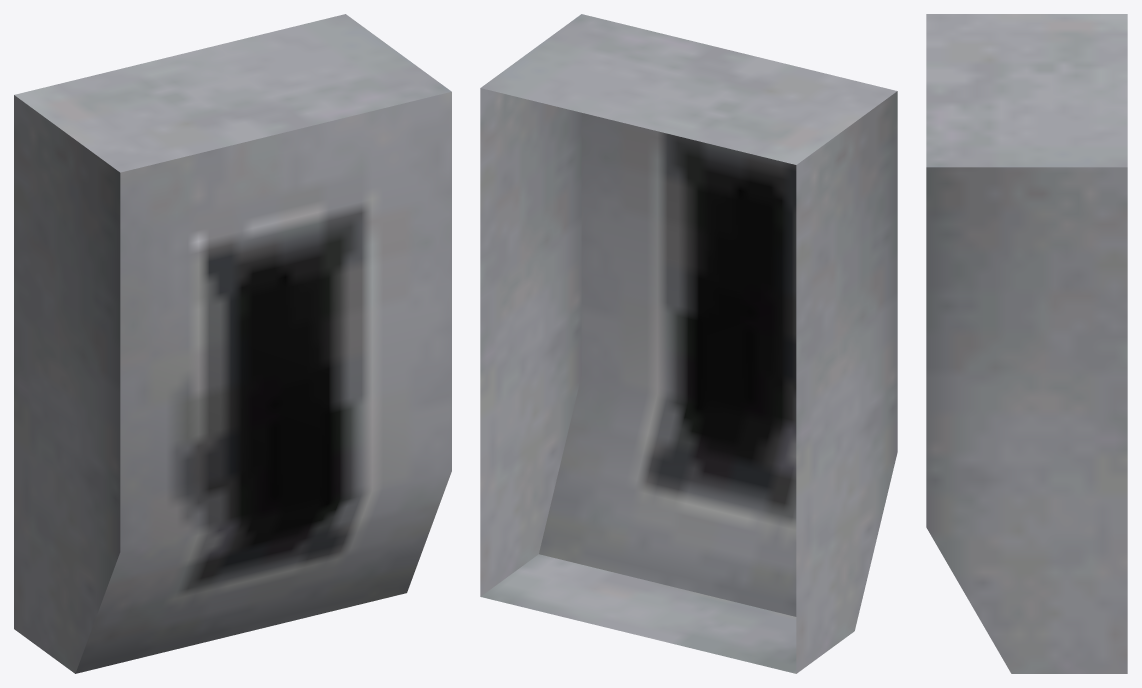
The model's file is cable_accessory_lamp_small.dae.
The picture shows the model from 3 angles, left to right: view 1: azimuth 30°, elevation 25°; view 2: azimuth 150°, elevation 25°; view 3: azimuth 270°, elevation 25°; orthographic projection. The views are drawn at different scales.
Visible parts, largest first — view 1: Mesh__2_; view 2: Mesh__2_; view 3: Mesh__2_.
Boxes of the visible parts, <box> form: Mesh__2_: <box>14,14,451,673</box>; Mesh__2_: <box>480,14,897,673</box>; Mesh__2_: <box>926,14,1127,673</box>.
Bounding box in the file's own units: 0.0395 × 0.0607 × 0.0219.
